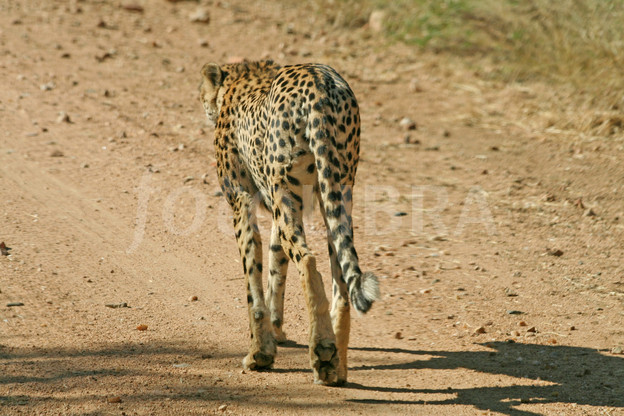Cheetah: (192, 56, 380, 388)
